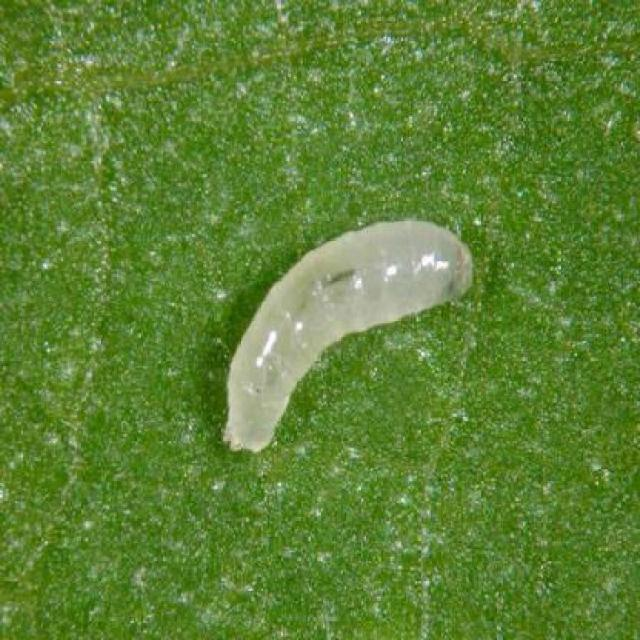whorl-maggot: (215, 206, 476, 460)
